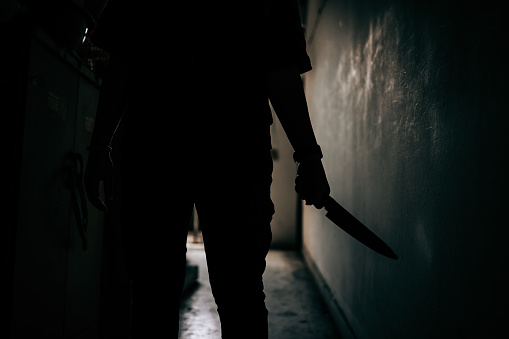knife: (294, 175, 402, 266)
